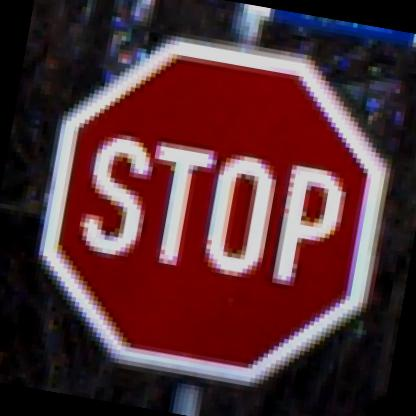stop: (14, 0, 415, 413)
